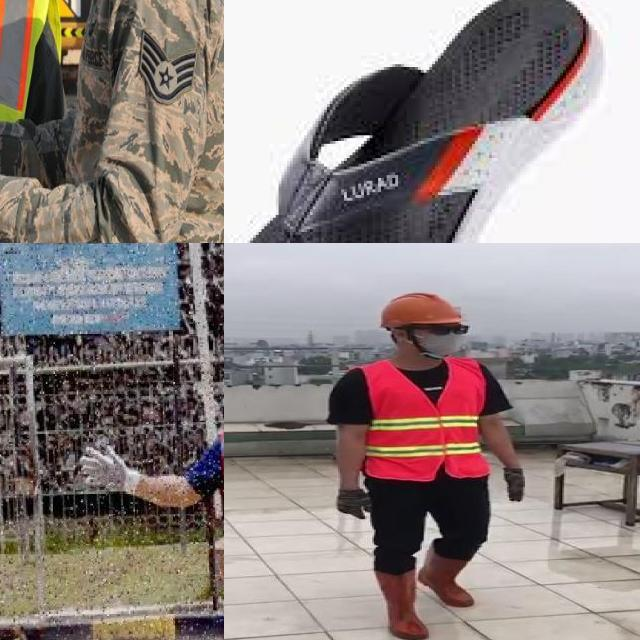Sandals: (224, 0, 640, 243)
boots: (370, 569, 431, 640), (420, 539, 477, 607)
head_helmet: (380, 289, 472, 332)
person: (320, 280, 528, 640)
vest: (356, 359, 490, 479)
